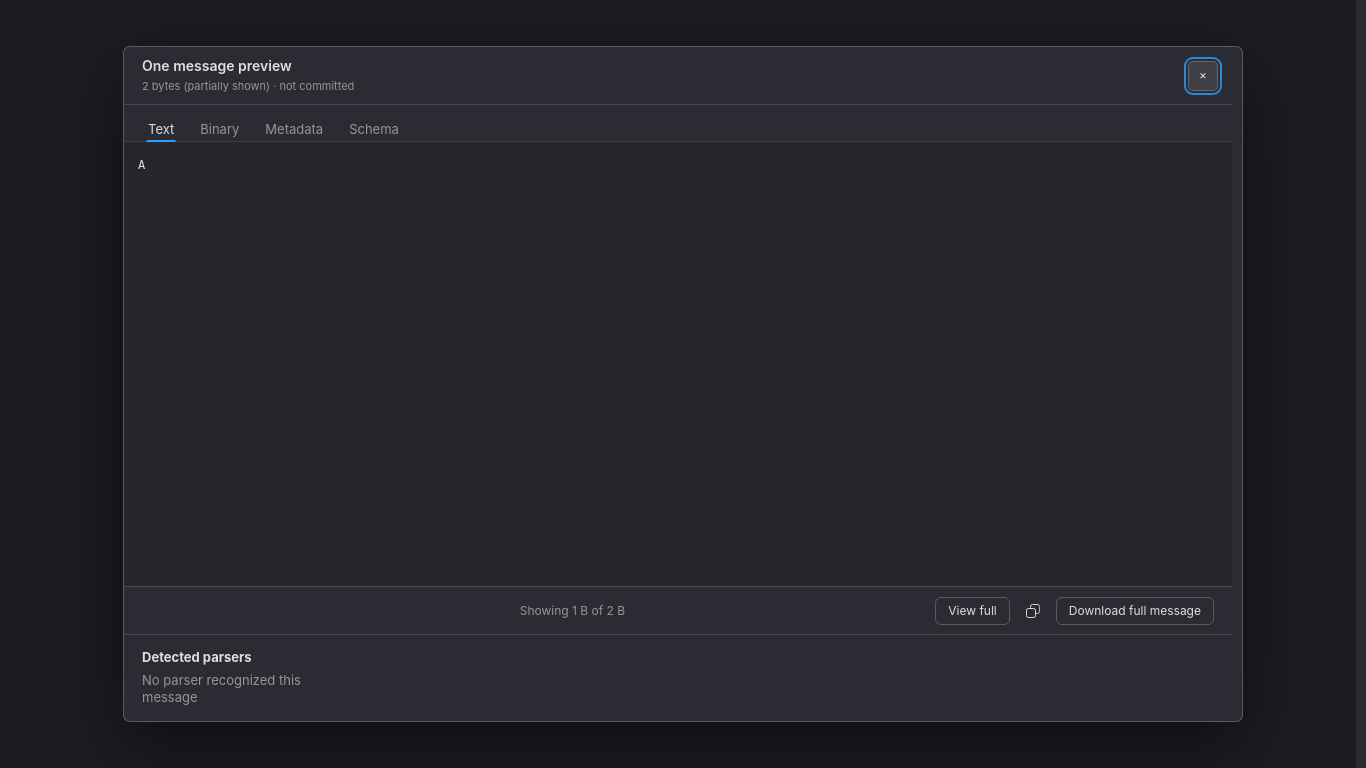
message preview dialog › keeps a long message truncated until View full is requested
Click the button "View full".
click(972, 611)  # box [935, 597, 1010, 625]
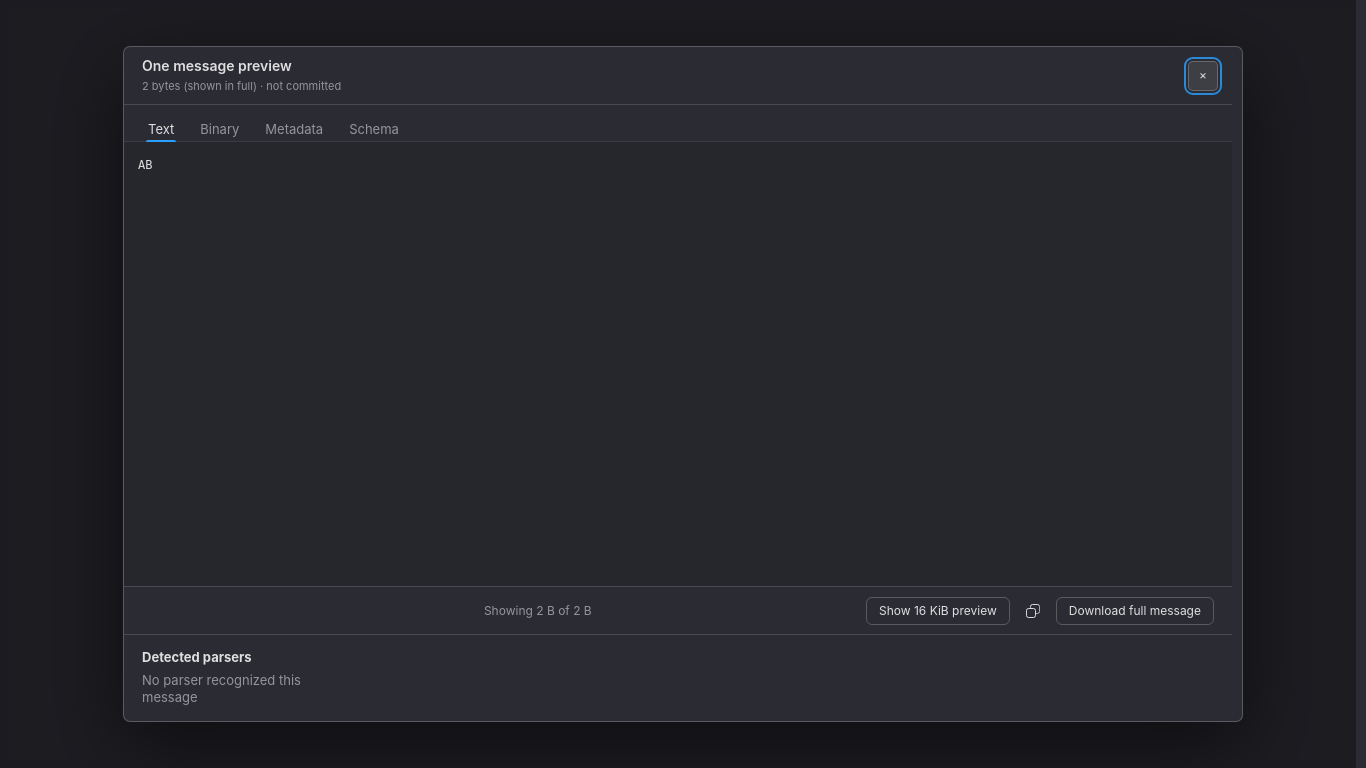
Click the tab "Binary".
click(220, 127)  # box [188, 113, 251, 141]
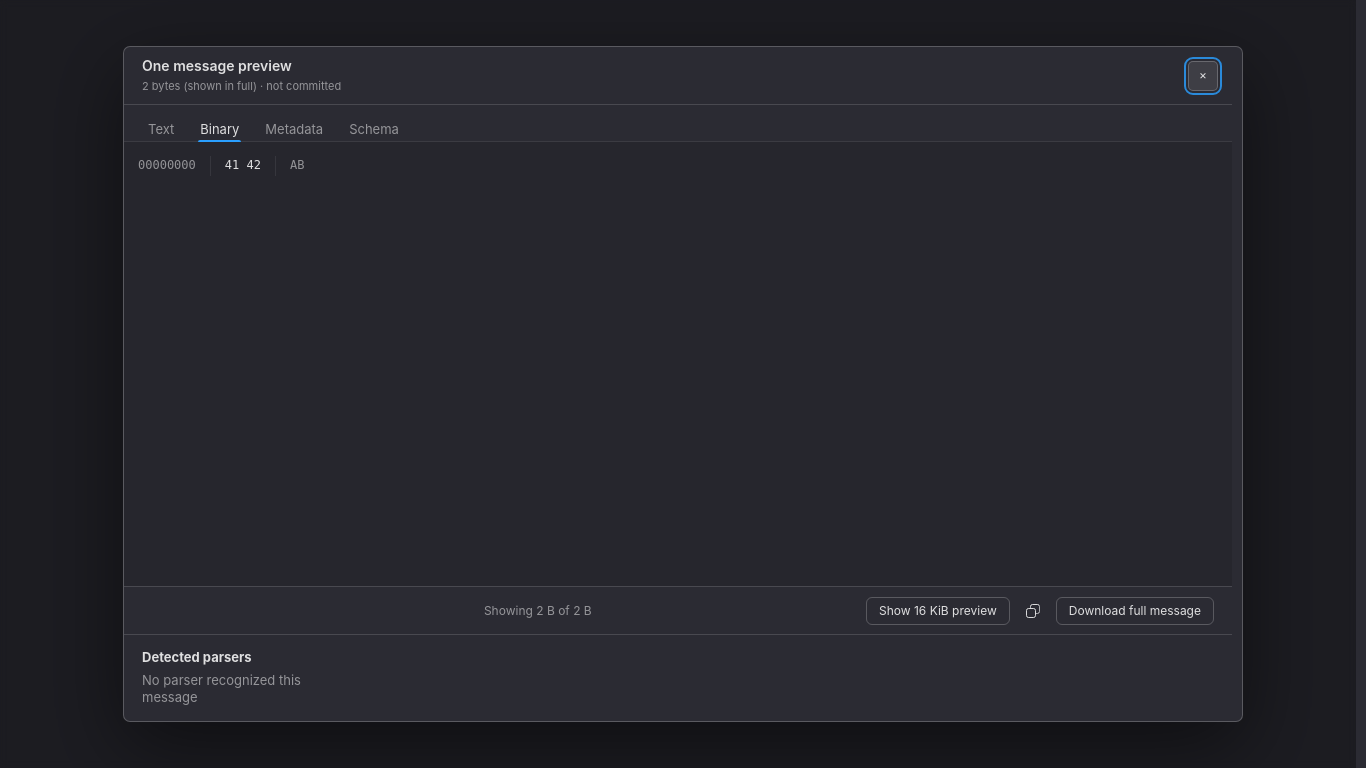
Expected: the text "41 42" is shown, [211, 156, 276, 176]
Click the tab "Metadata".
click(294, 127)  # box [253, 113, 335, 141]
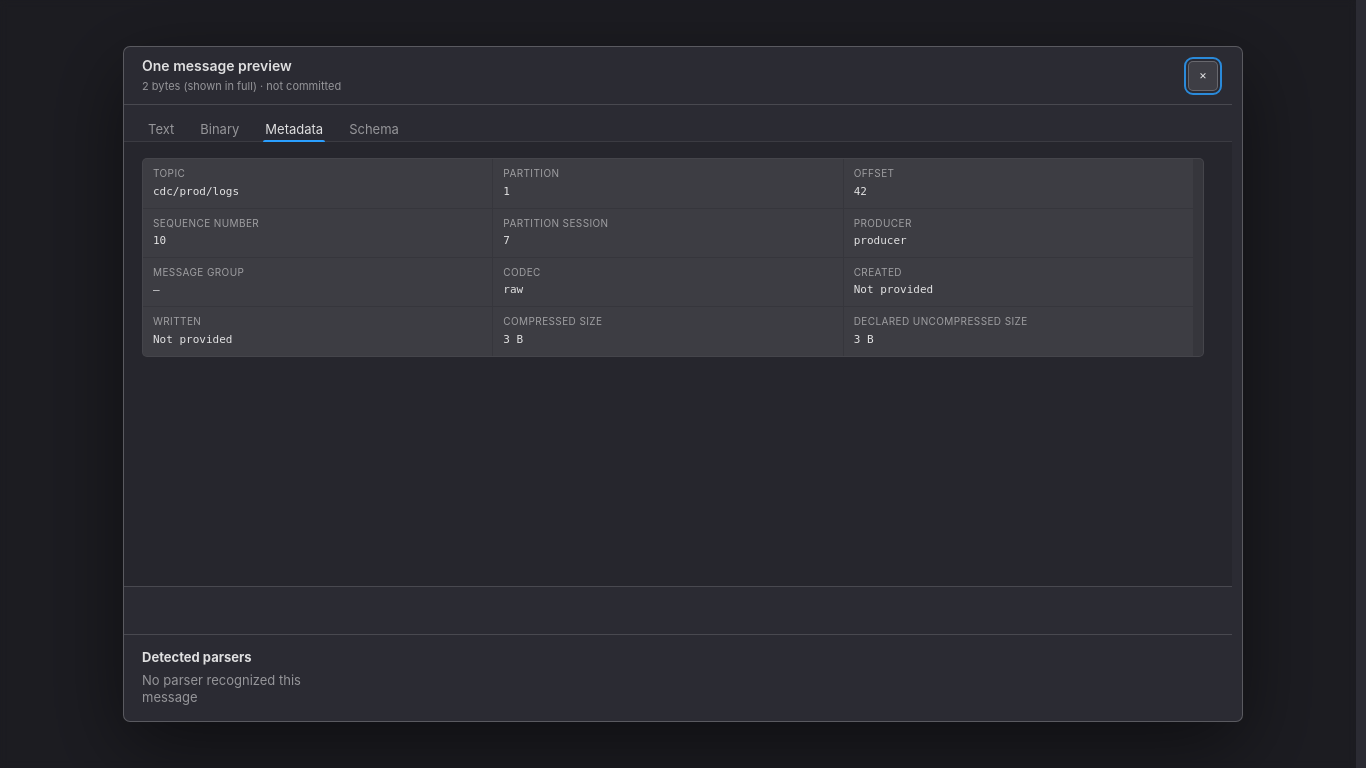
Expected: the text "cdc/prod/logs" is shown, [153, 185, 239, 198]
